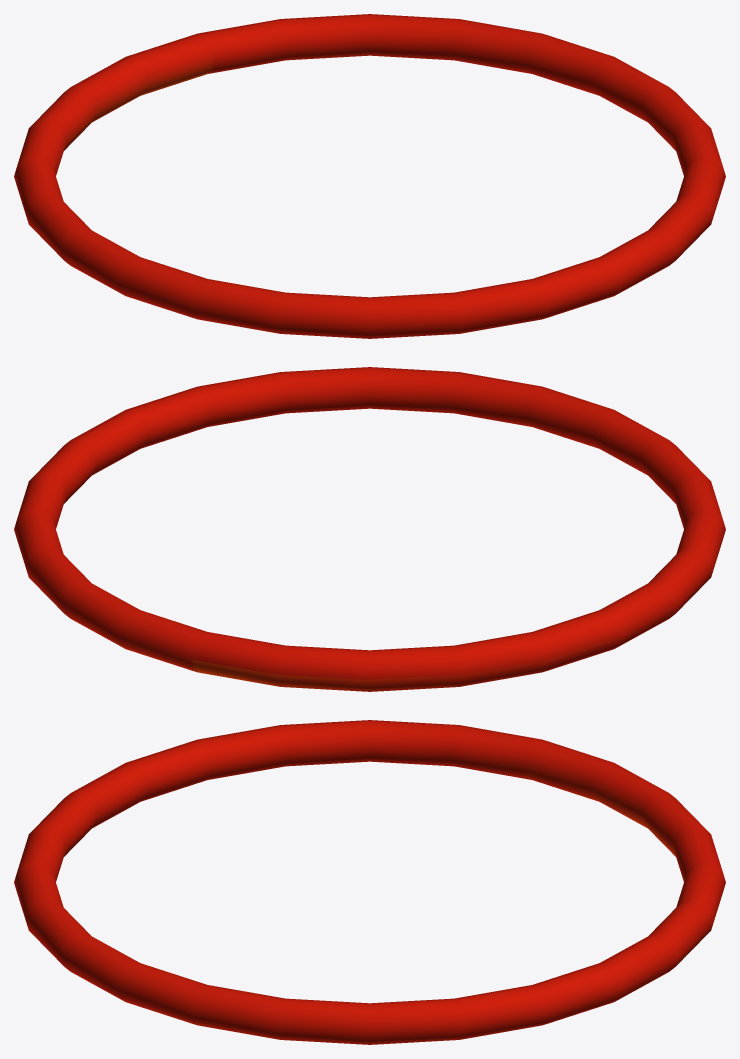
File: Ring1P.FBX
3 renders of one model, top to bottom at view 1: azimuth 30°, elevation 25°; view 2: azimuth 150°, elevation 25°; view 3: azimuth 270°, elevation 25°, orthographic.
Visible parts, largest first — view 1: Torus001; view 2: Torus001; view 3: Torus001.
Part boxes in pixels (box(x1,y1,x2,y2)): Torus001: box(14, 14, 725, 338); Torus001: box(14, 367, 725, 691); Torus001: box(14, 720, 725, 1044).
Bounding box in the file's own units: 160 × 160 × 9.38.
1 material, 1 textured.
